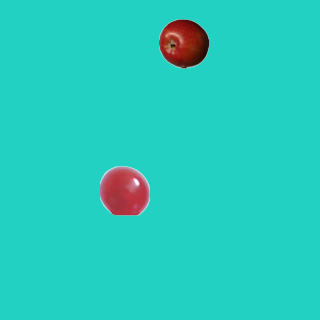Apple Braeburn: (158, 18, 208, 68)
Redcurrant: (99, 165, 149, 215)
